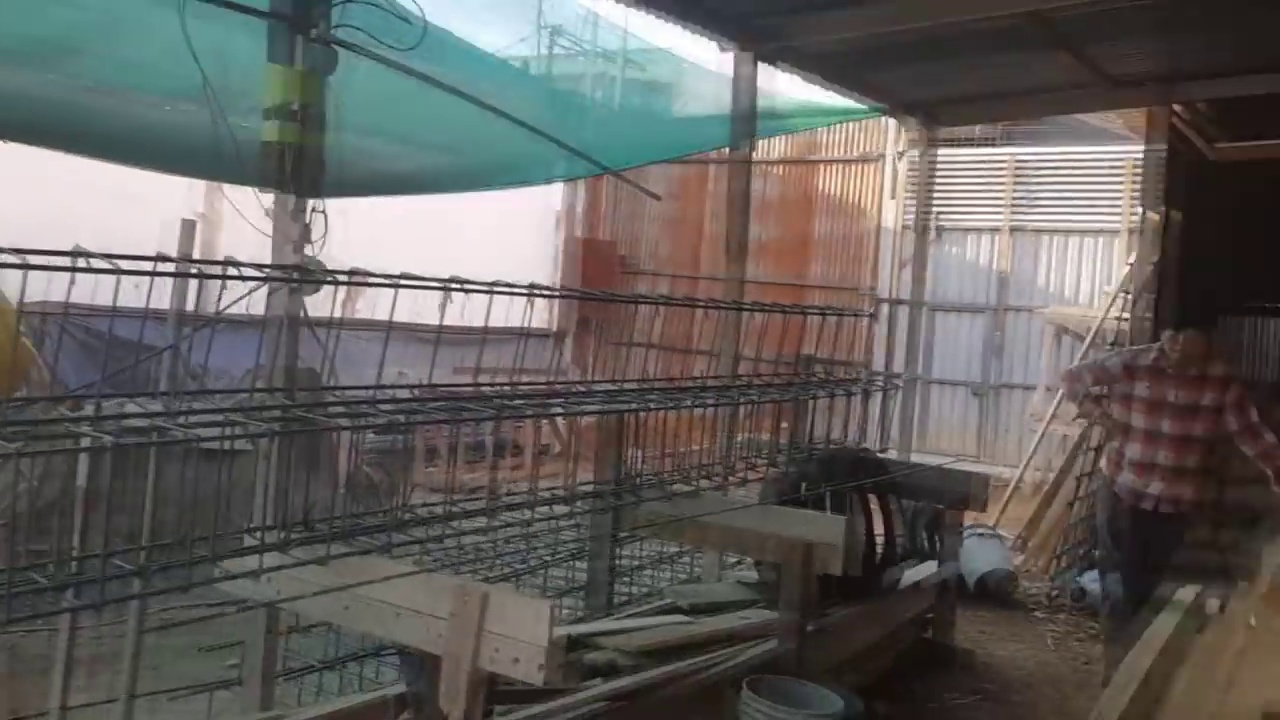helmet-off: (1156, 288, 1230, 370)
person: (1057, 288, 1239, 647)
